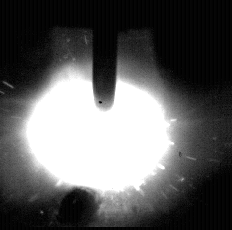arame: (93, 0, 117, 111)
poca: (26, 0, 169, 230)
